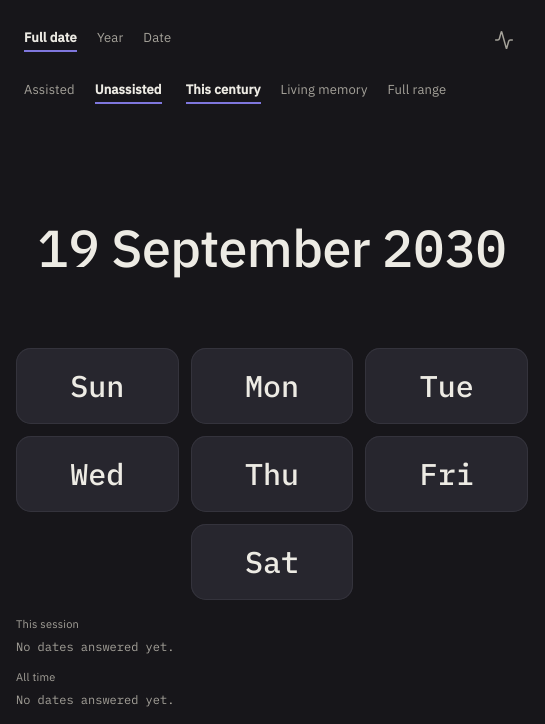
Test case: the trainer toggle › drops the help toggle on both halves and the range on the date half
This screenshot has width=545, height=724.
Expected: the radio button labelled "Assisted" is shown, [16,68,83,116]
What coordinates should you click on to do the following:
click the radio button labelled "Year"
I would click on:
 (110, 40)
Its box is [89,16,131,64].
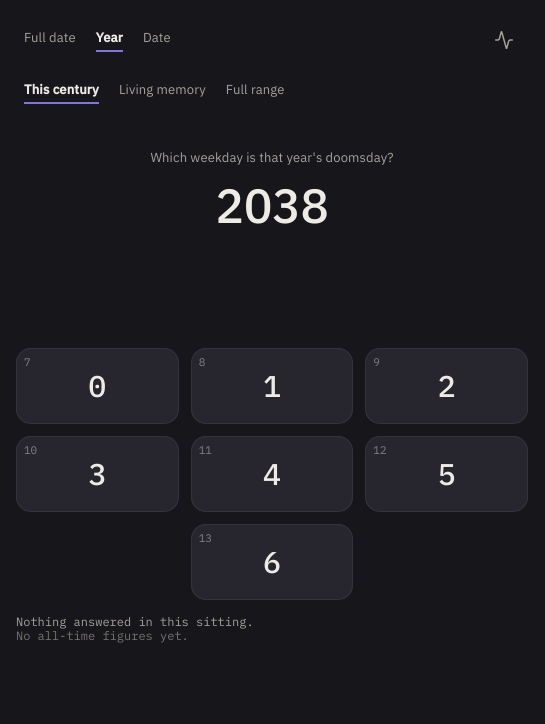
Expected: the radio button labelled "This century" is shown, [16,68,107,116]
Result: the radio button labelled "Assisted" is gone
What coordinates should you click on to do the following:
click the radio button labelled "Date"
I would click on:
 (157, 40)
Its box is [135,16,179,64].
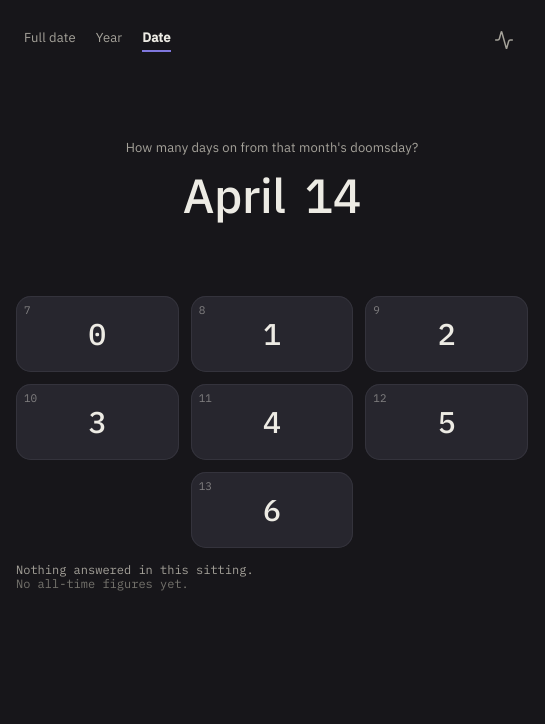
Expected: the radio button labelled "Assisted" is not shown
Result: the radio button labelled "This century" is gone
